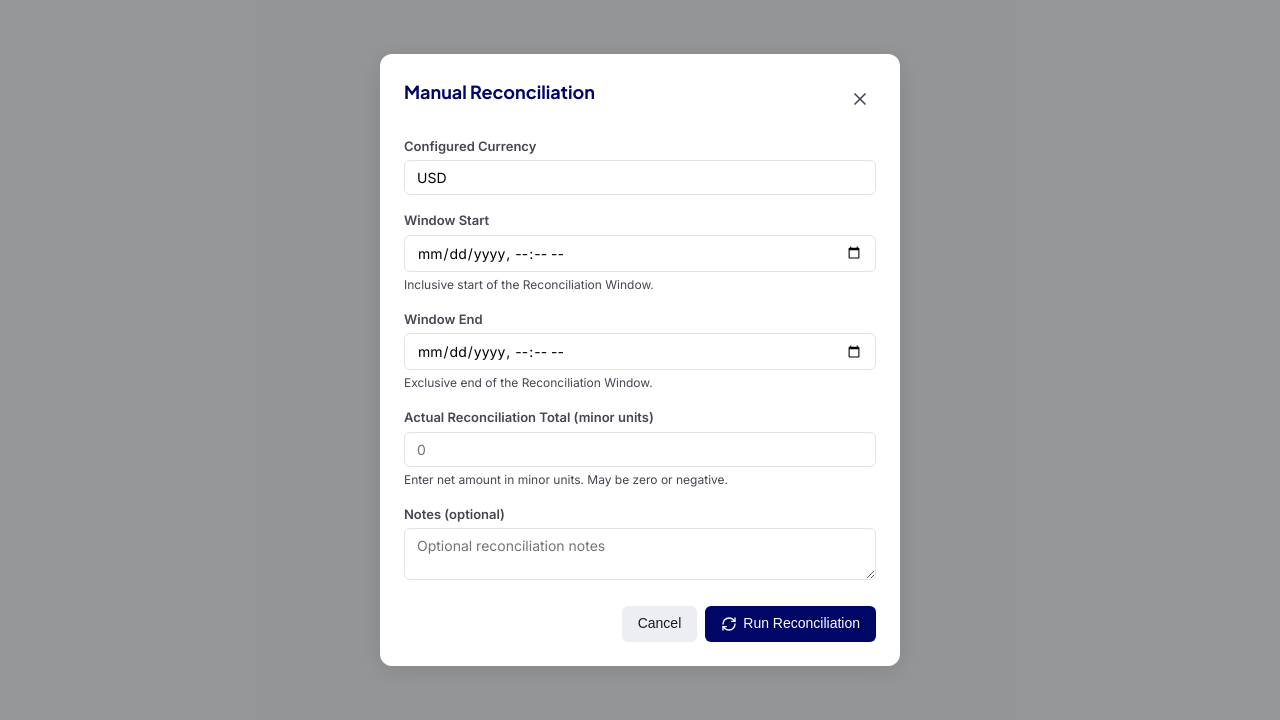
RunReconciliationDialog › blocks submission when window end is before window start
The image size is (1280, 720).
Type "2024-01-15T10:00" into the field labelled "Window Start" at point(640, 254), box [404,235,876,272]
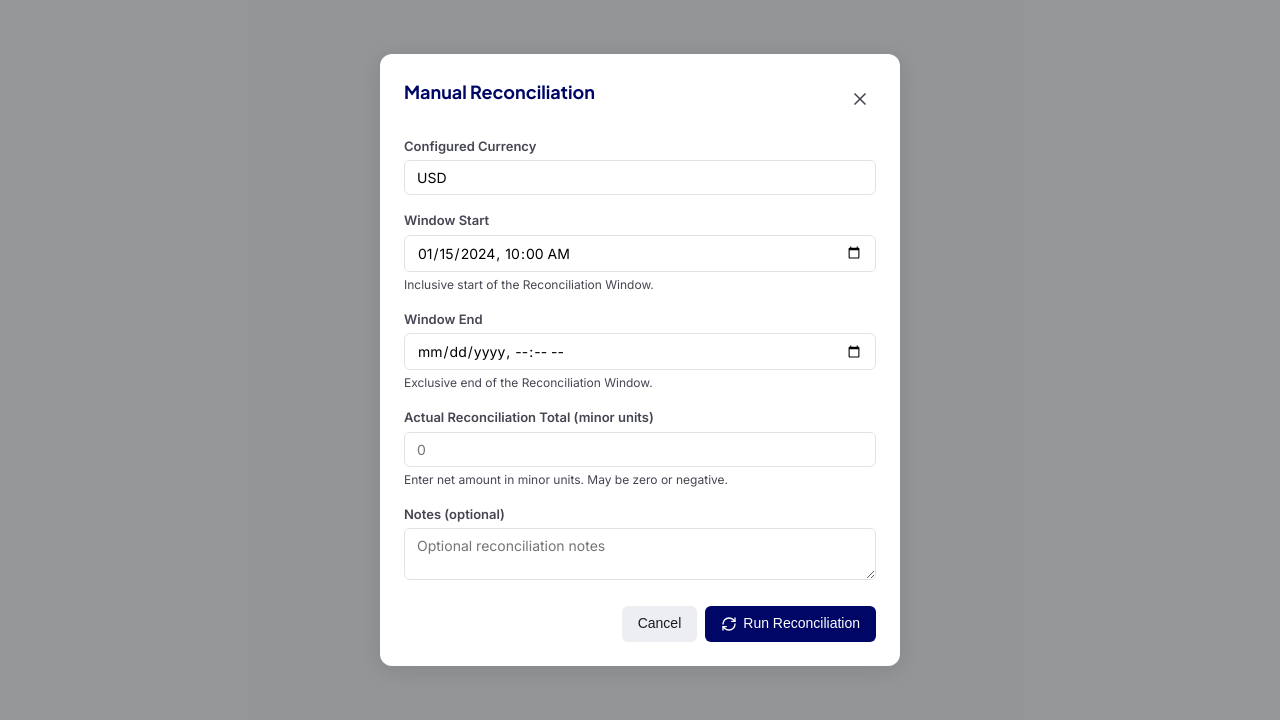
Type "2024-01-14T10:00" into the field labelled "Window End" at point(640, 352), box [404,334,876,370]
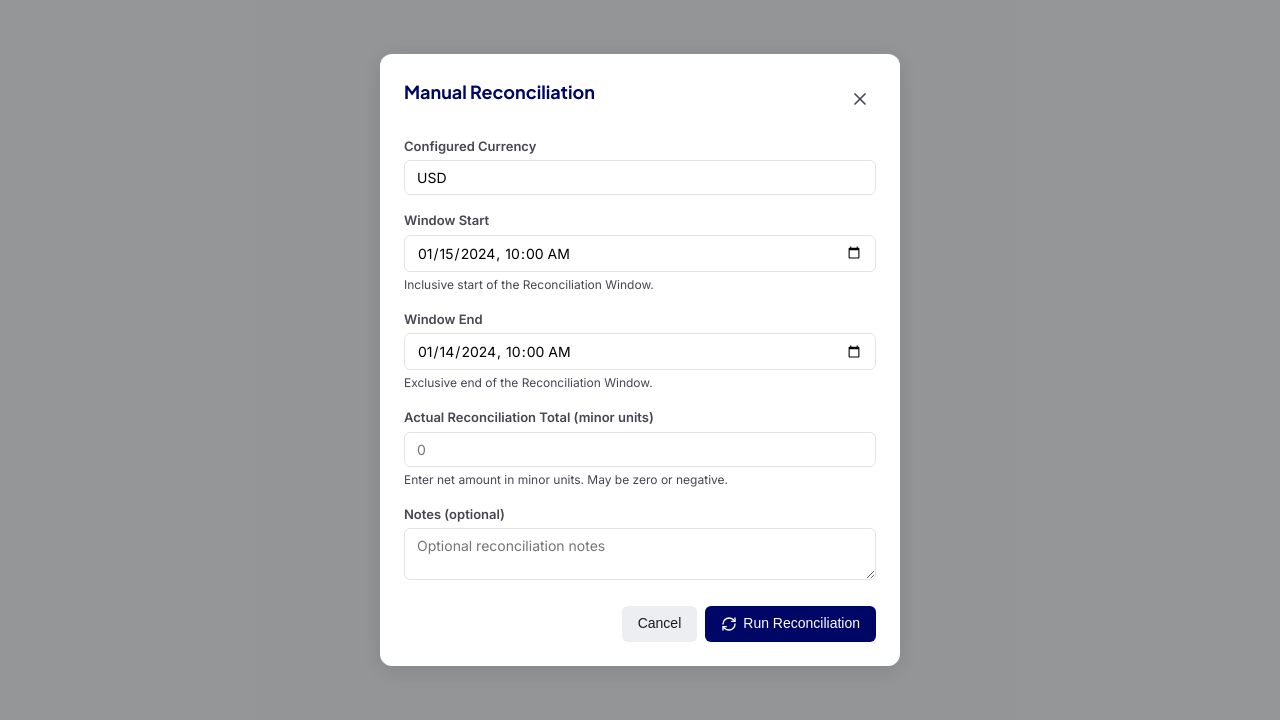
Type "1000" into the field labelled "Actual Reconciliation Total (minor units)" at point(640, 450), box [404,432,876,467]
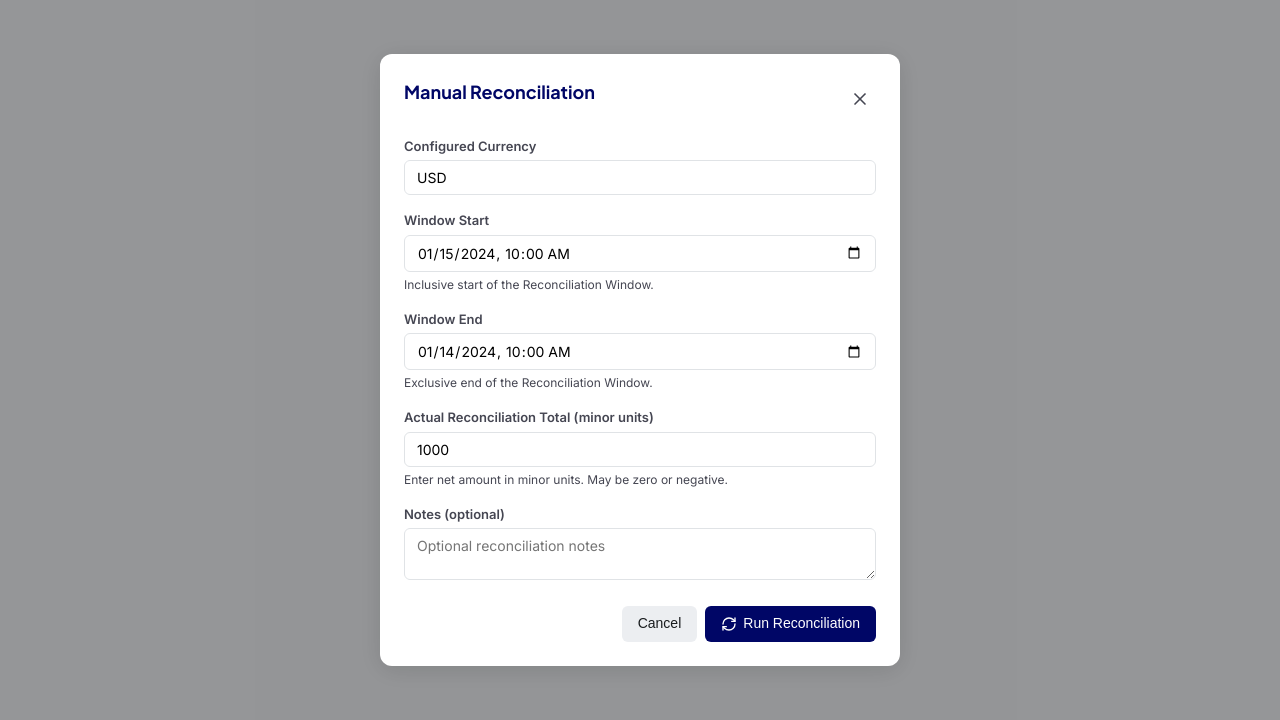
Click the button "Run Reconciliation" at point(791, 624), box [705,606,876,642]
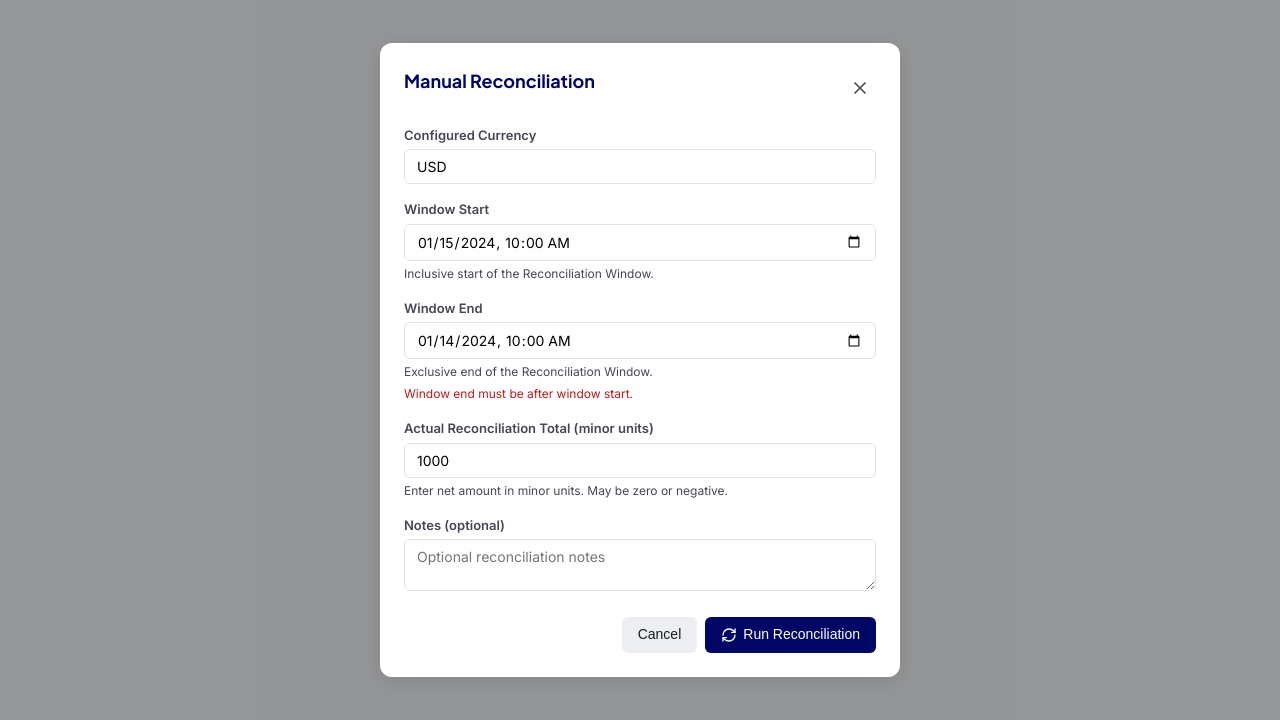
Result: the text "Window end must be after window start." is shown at [404,386,633,402]
